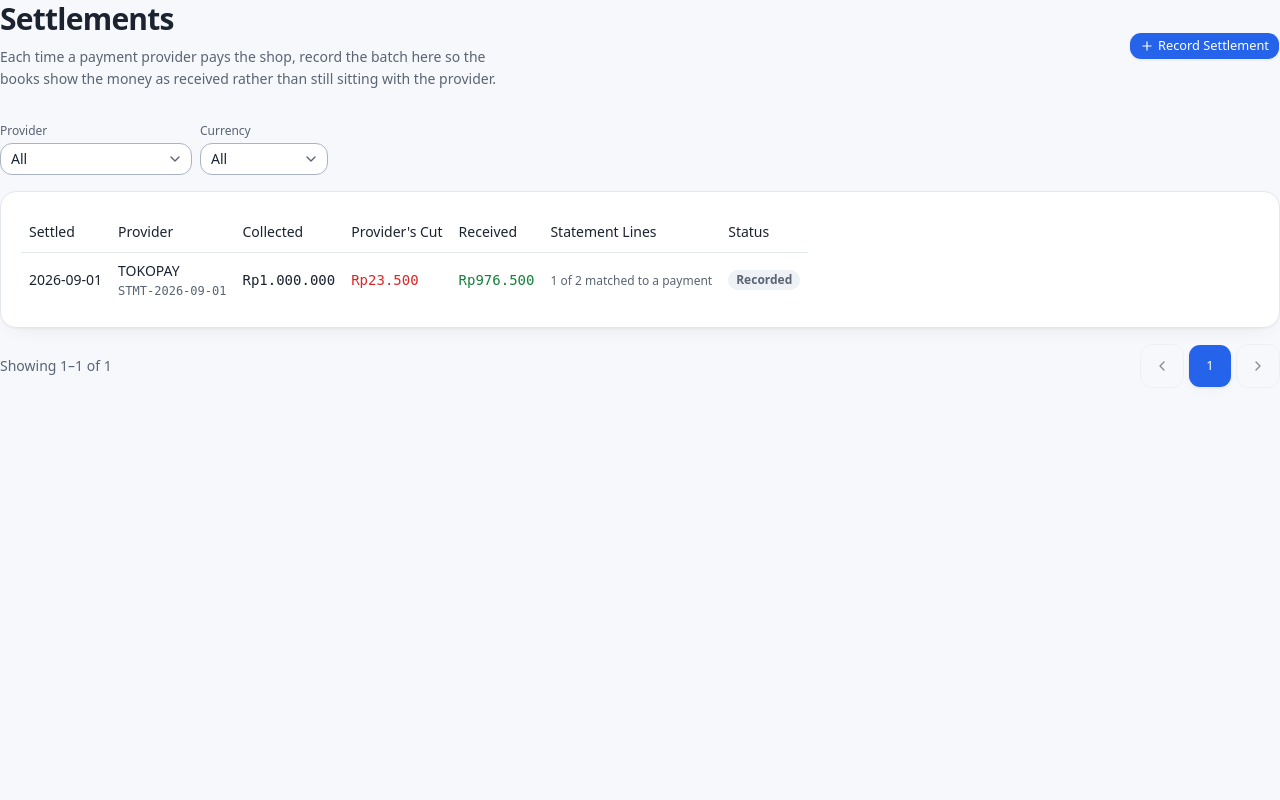
Test: SettlementsPage › keeps Record disabled until the date and both required amounts are filled in
The width and height of the screenshot is (1280, 800).
Expected: the text "STMT-2026-09-01" is shown, [118, 282, 226, 298]
Click the button "Record Settlement".
click(1204, 46)  # box [1129, 32, 1279, 60]
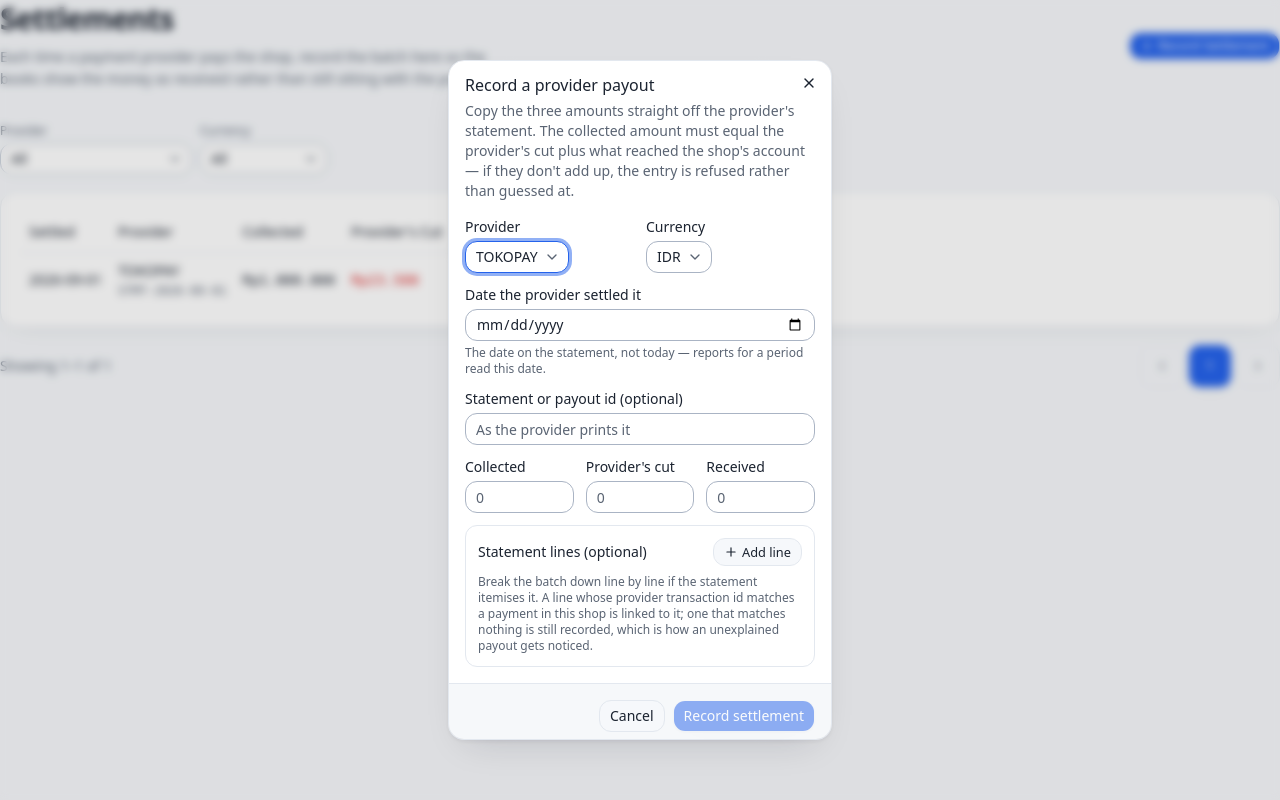
Expected: the button "Record settlement" is disabled, [672, 700, 815, 732]
Type "2026-09-01" into the date field named "Settlement date".
click(640, 325); type("2026-09-01")  # box [465, 309, 815, 341]
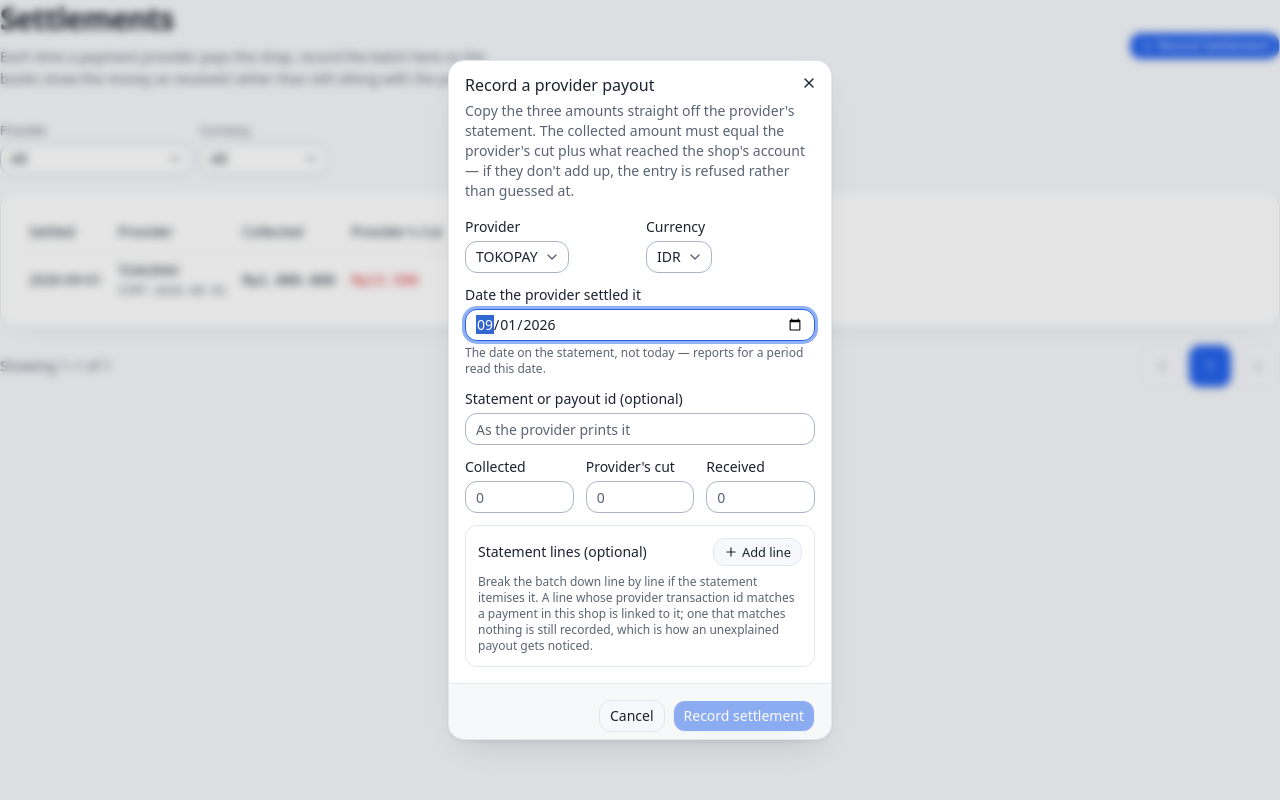
Expected: the button "Record settlement" is disabled, [672, 700, 815, 732]
Type "100" into the field labelled "Collected".
click(519, 497); type("100")  # box [465, 481, 574, 513]
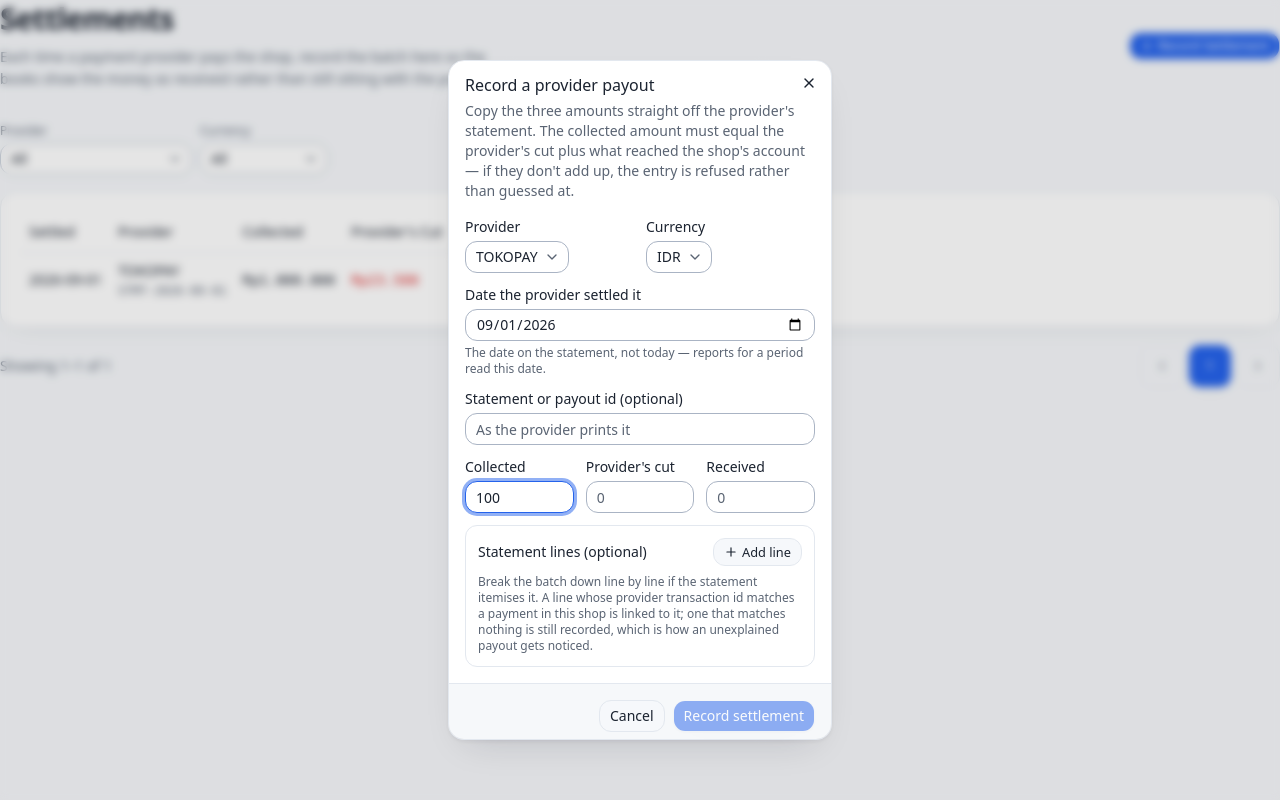
Expected: the button "Record settlement" is disabled, [672, 700, 815, 732]
Type "100" into the field labelled "Received".
click(761, 497); type("100")  # box [706, 481, 815, 513]
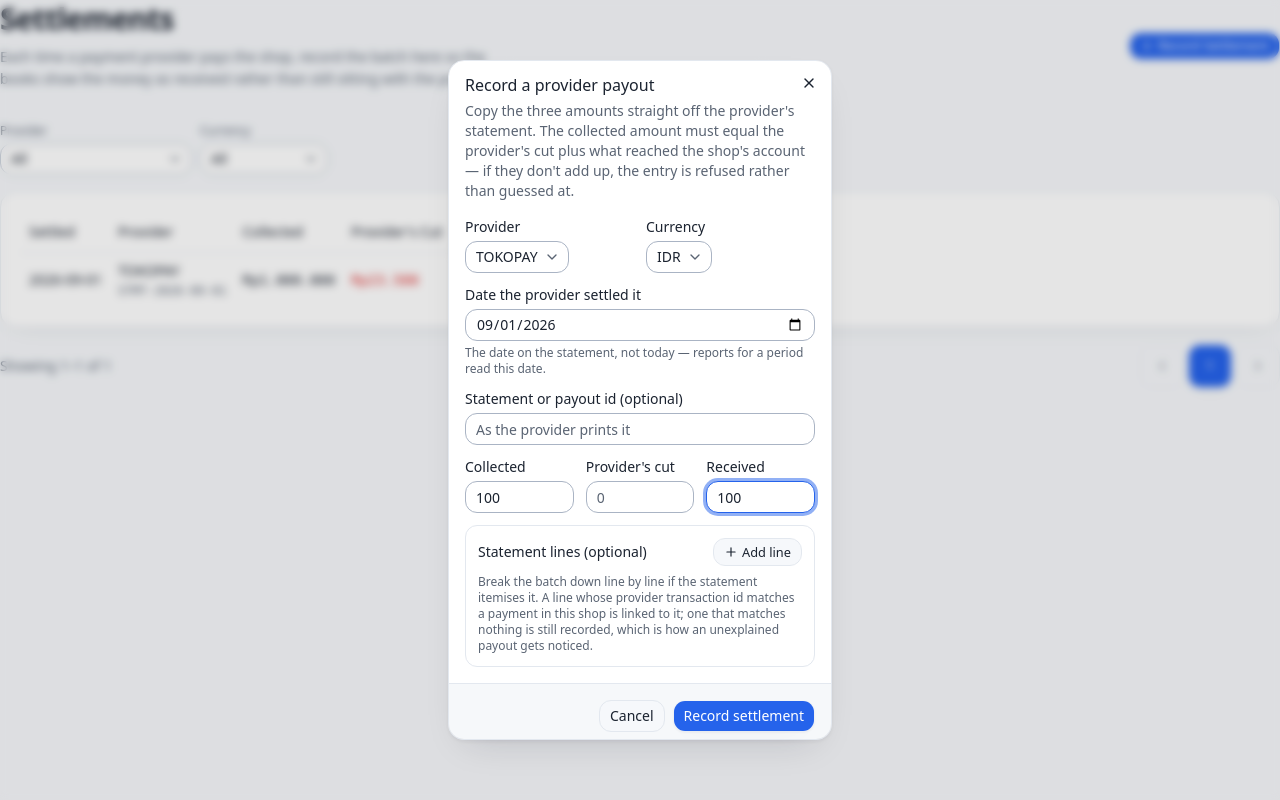
Expected: the button "Record settlement" is enabled, [672, 700, 815, 732]
